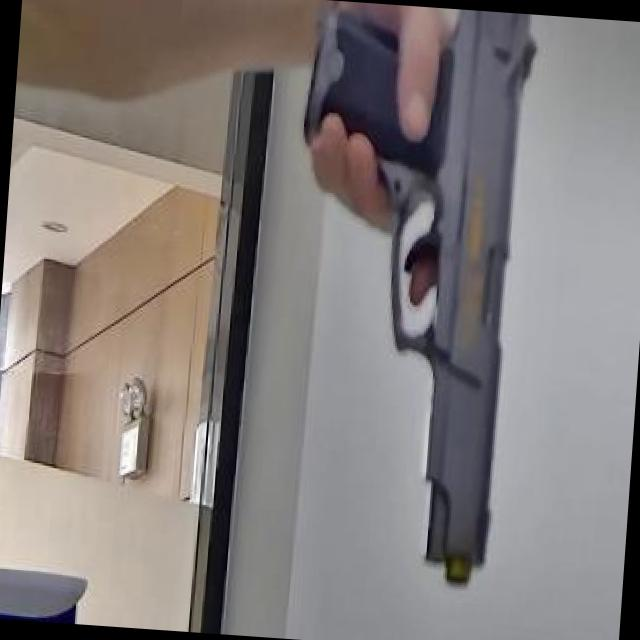Guns: (253, 0, 598, 613)
